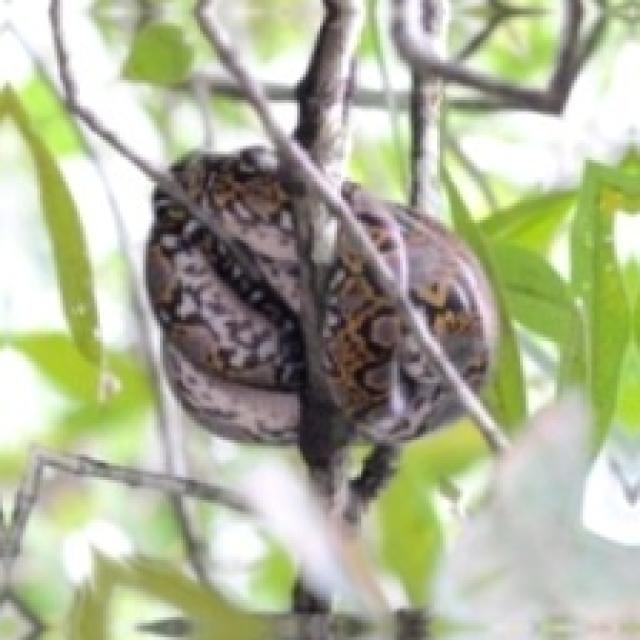reticulated python: (146, 146, 460, 503), (146, 146, 303, 440), (340, 183, 494, 386), (343, 183, 494, 386), (323, 231, 460, 443)
